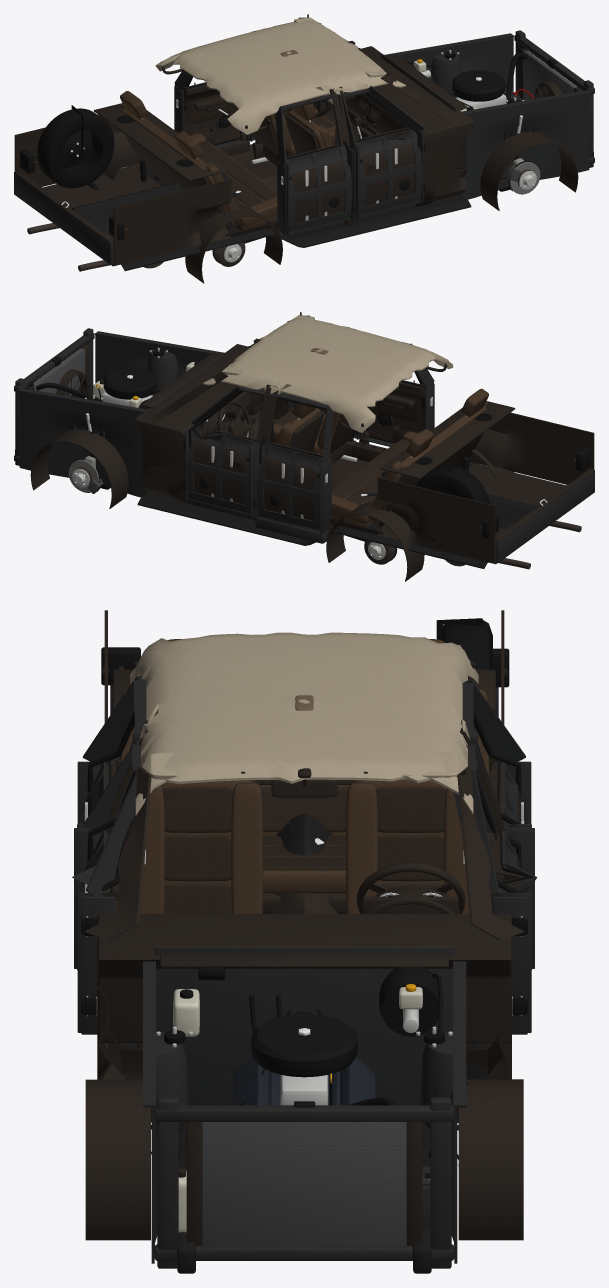
Rendered from gaucho-v8_completo.glb.
3 views of the same model, one above another, from view 1: azimuth 30°, elevation 25°; view 2: azimuth 150°, elevation 25°; view 3: azimuth 270°, elevation 25° (orthographic). The views are drawn at different scales.
Parts seen in each view (by area): view 1: interior_forro_teto, interior_portamalas_carpete, engine_paralama_interno_dir, interior_banco_traseiro, under_assoalho, interior_portamalas_estepe, interior_painel, engine_paralama_interno_esq, door_card_rr_chapa, door_card_fr_chapa, interior_portamalas_tampao, under_caixa_roda_fr (+20 smaller); view 2: interior_portamalas_carpete, interior_forro_teto, engine_paralama_interno_esq, interior_banco_traseiro, interior_painel, under_assoalho, engine_paralama_interno_dir, door_card_rl_chapa, door_card_fl_chapa, interior_portamalas_tampao, under_caixa_roda_fl, door_card_rr (+23 smaller); view 3: interior_forro_teto, engine_corta_fogo, engine_radiador, interior_painel, engine_travessa, interior_banco_dianteiro_dir, interior_banco_dianteiro_esq, engine_motor, under_caixa_roda_fr, under_caixa_roda_fl, interior_acabamento_colunas, interior_banco_traseiro (+25 smaller).
Boxes of the visible parts, <box> form: interior_forro_teto: <box>155,20,405,134</box>; interior_portamalas_carpete: <box>14,114,231,266</box>; engine_paralama_interno_dir: <box>461,90,591,199</box>; interior_banco_traseiro: <box>120,91,277,230</box>; under_assoalho: <box>71,167,471,271</box>; interior_portamalas_estepe: <box>37,105,114,188</box>; interior_painel: <box>345,46,474,168</box>; engine_paralama_interno_esq: <box>384,33,513,96</box>; door_card_rr_chapa: <box>284,146,353,235</box>; door_card_fr_chapa: <box>354,129,423,218</box>; interior_portamalas_tampao: <box>93,103,228,180</box>; under_caixa_roda_fr: <box>480,131,578,210</box>; interior_portamalas_carpete: <box>377,412,594,564</box>; interior_forro_teto: <box>203,318,453,432</box>; engine_paralama_interno_esq: <box>17,388,147,497</box>; interior_banco_traseiro: <box>331,388,488,528</box>; interior_painel: <box>134,344,264,466</box>; under_assoalho: <box>137,465,537,568</box>; engine_paralama_interno_dir: <box>95,331,224,394</box>; door_card_rl_chapa: <box>255,444,324,533</box>; door_card_fl_chapa: <box>185,426,256,516</box>; interior_portamalas_tampao: <box>380,401,515,478</box>; under_caixa_roda_fl: <box>30,429,128,508</box>; door_card_rr: <box>368,380,425,443</box>; interior_forro_teto: <box>130,632,478,815</box>; engine_corta_fogo: <box>154,946,454,1105</box>; engine_radiador: <box>186,1122,422,1245</box>; interior_painel: <box>97,885,511,1043</box>; engine_travessa: <box>154,1097,454,1268</box>; interior_banco_dianteiro_dir: <box>140,780,262,913</box>; interior_banco_dianteiro_esq: <box>346,779,468,913</box>; engine_motor: <box>233,1009,375,1105</box>; under_caixa_roda_fr: <box>85,1079,150,1240</box>; under_caixa_roda_fl: <box>458,1079,523,1240</box>; interior_acabamento_colunas: <box>84,720,524,940</box>; interior_banco_traseiro: <box>119,639,489,913</box>.
Size of what is drawn, in the model's own units: 4.43 by 1.37 by 1.76.
28 materials, 28 textured.
